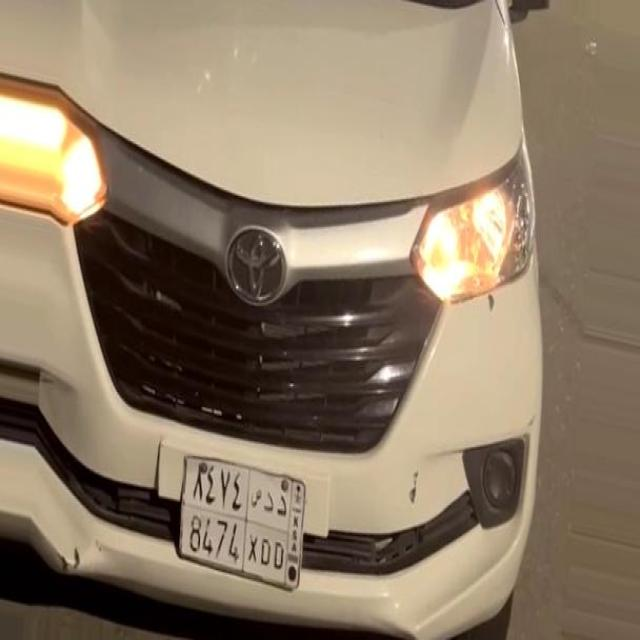Car-plate: (167, 431, 320, 607)
